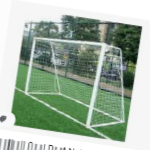goals: (25, 35, 126, 129)
